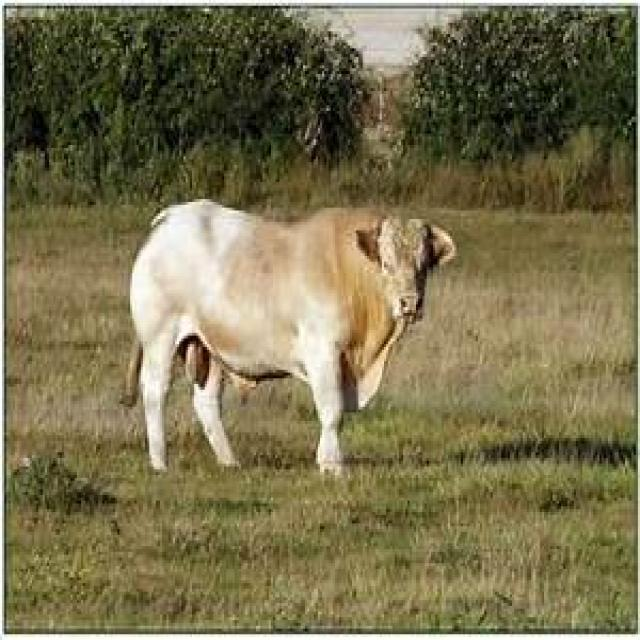cow: (128, 199, 459, 475)
